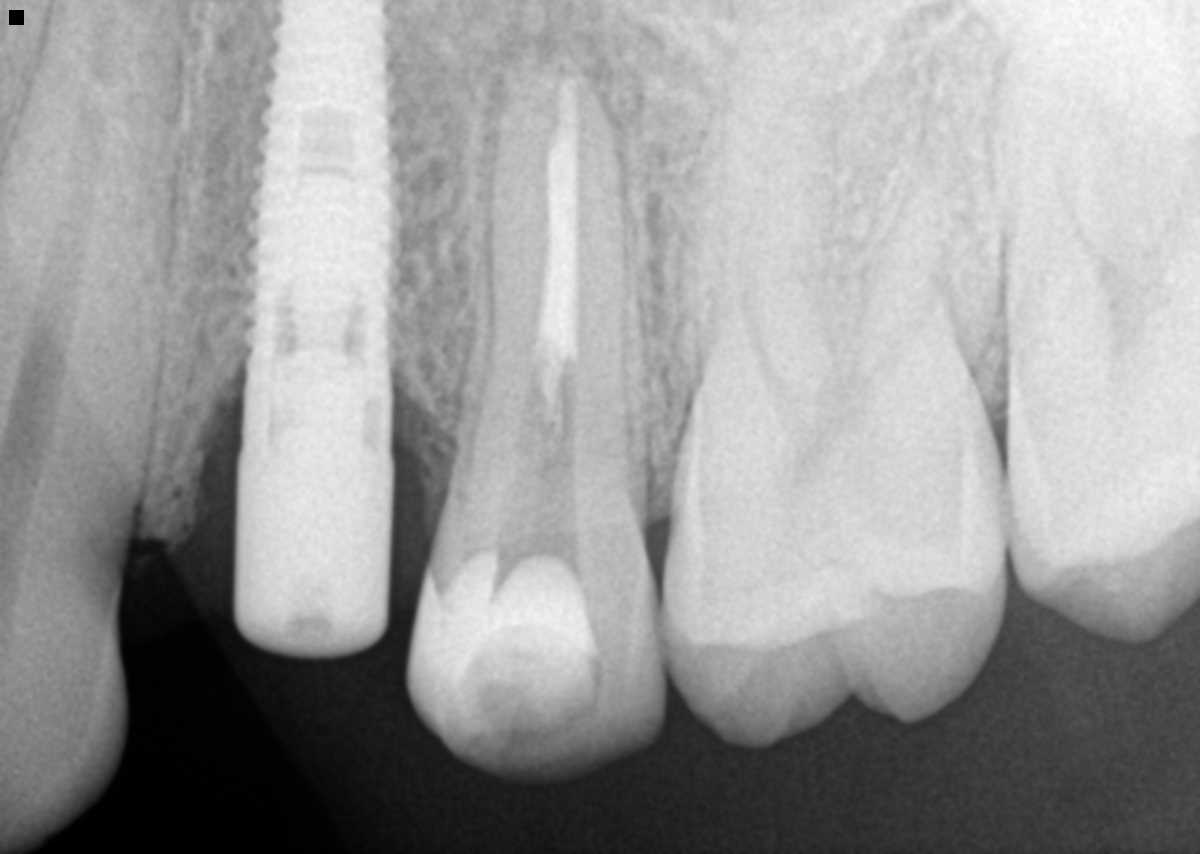Apical Lesion: (462, 0, 645, 127)
Distal Canal: (866, 234, 953, 394)
Distal Root: (843, 31, 1047, 396)
Main Canal: (0, 0, 136, 517)
Main Root: (0, 0, 198, 547), (444, 79, 636, 515), (984, 0, 1200, 290)
Mesial Canal: (744, 254, 805, 430)
Mesial Root: (694, 42, 850, 386)
Root Canal Filling: (536, 80, 584, 358)
